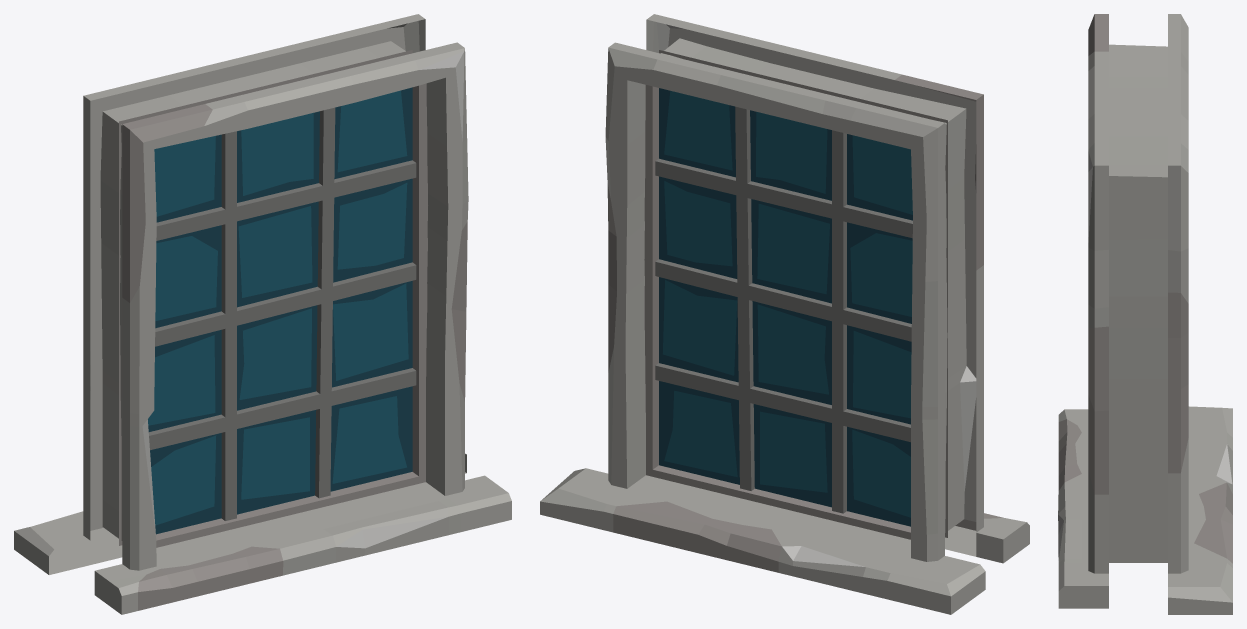
Rendered from SM_Window_A.fbx.
3 renders of one model, left to right at view 1: azimuth 30°, elevation 25°; view 2: azimuth 150°, elevation 25°; view 3: azimuth 270°, elevation 25°, orthographic. The views are drawn at different scales.
Visible parts, largest first — view 1: SM_Window_A; view 2: SM_Window_A; view 3: SM_Window_A.
Boxes of the visible parts, left/top/right/bottom form: SM_Window_A: left=14, top=14, right=511, bottom=614; SM_Window_A: left=540, top=14, right=1029, bottom=614; SM_Window_A: left=1058, top=14, right=1232, bottom=614.
Bounding box in the file's own units: 152 × 161 × 59.2.
